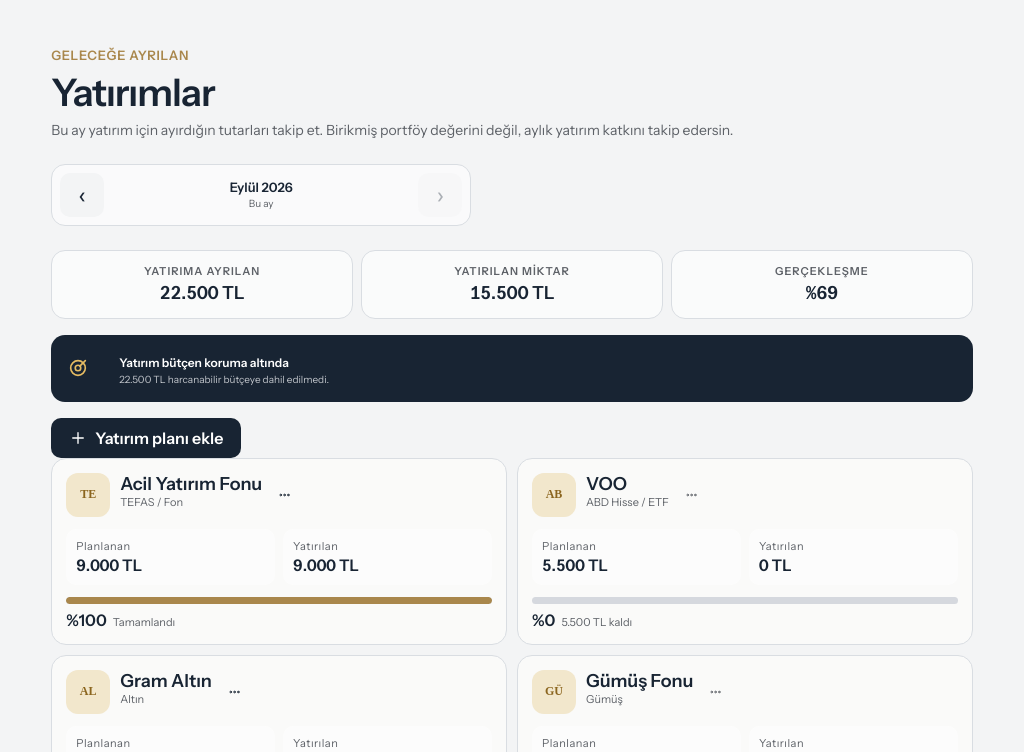
Test: UX polish pack › AKÇE-039: Compact Asset & Investment Cards › investment edit and delete work via overflow menu
Click the button named "Yatırım işlemleri" next to "Acil Yatırım Fonu".
click(294, 495)  # box [272,473,316,517]
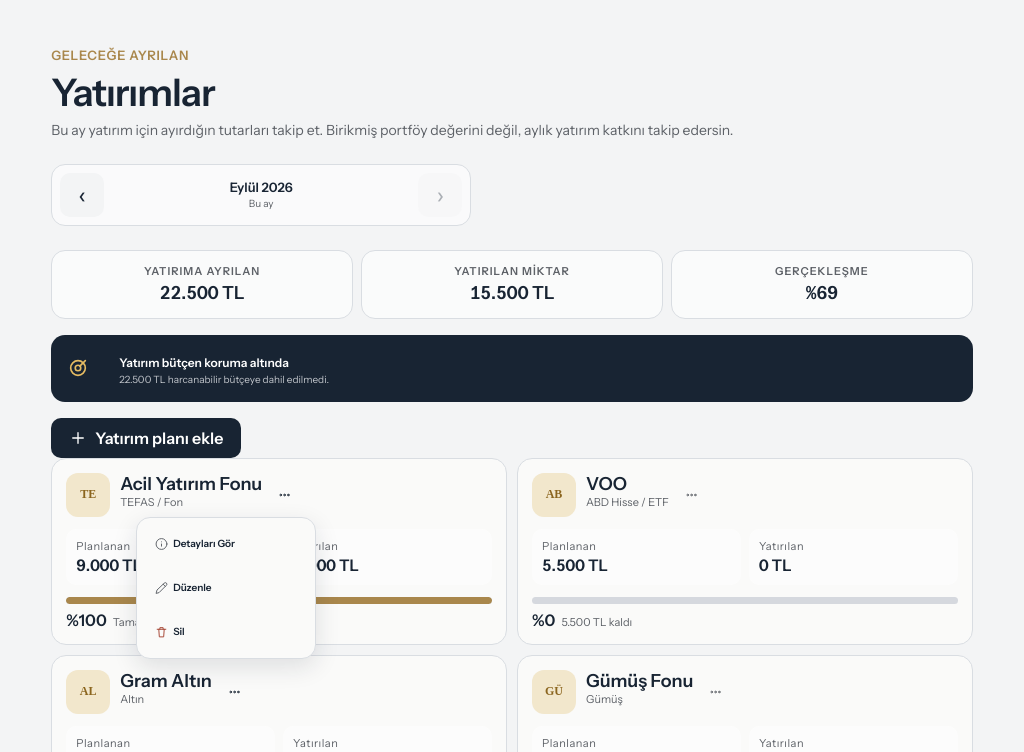
Click the menu item "Düzenle".
click(226, 588)  # box [141,566,311,610]
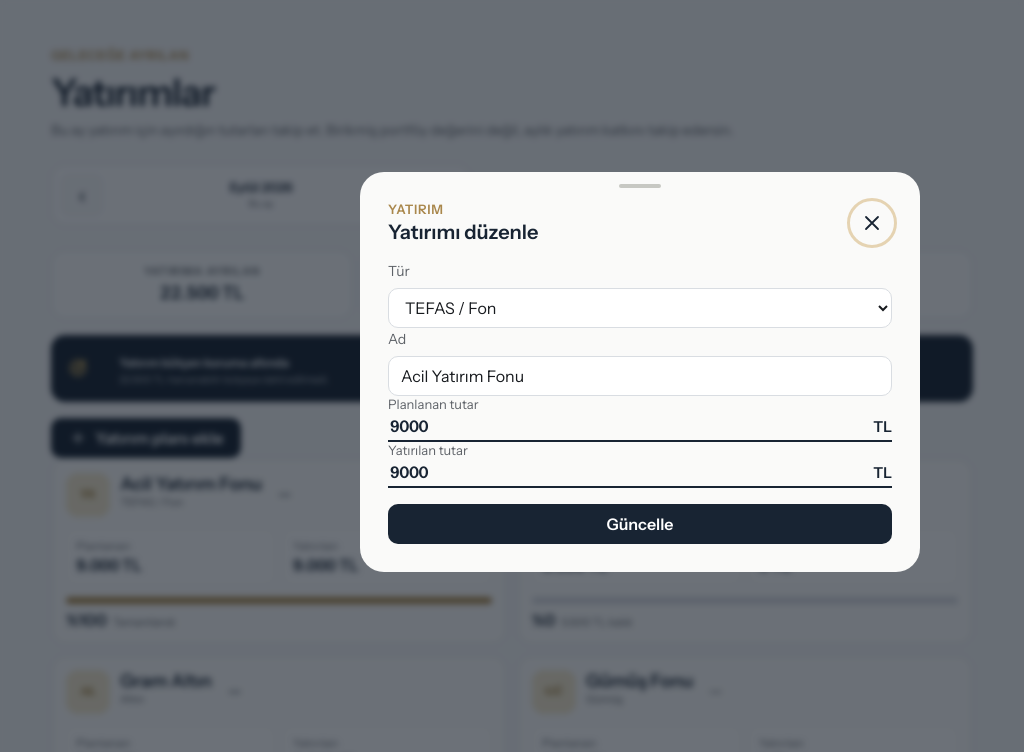
Now the text "YATIRIM" is shown, box [388,201,444,217]
